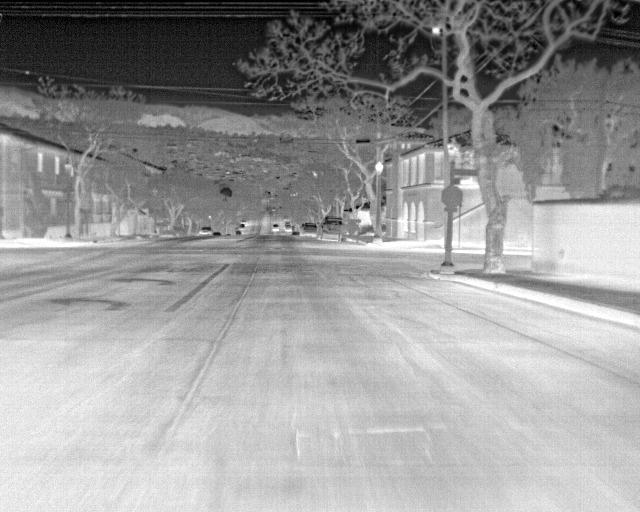bicycle: (319, 216, 346, 240), (298, 222, 318, 237), (198, 226, 213, 238), (269, 222, 281, 233)
